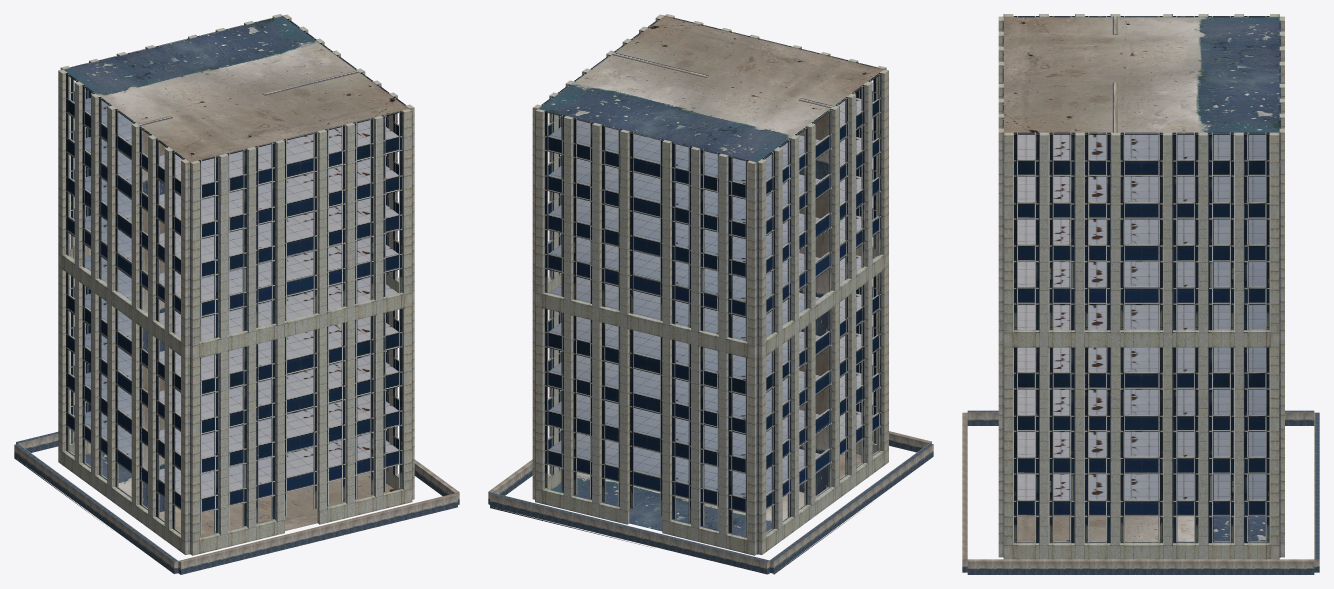
File: BagSS02mid_500.fbx
3 views of the same model, side by side, from view 1: azimuth 30°, elevation 25°; view 2: azimuth 150°, elevation 25°; view 3: azimuth 270°, elevation 25° (orthographic). The views are drawn at different scales.
Parts seen in each view (by area): view 1: midMain500, midRoofaa500, midFloor500, midrail500, midWall500; view 2: midMain500, midRoofaa500, midFloor500, midrail500, midWall500; view 3: midMain500, midRoofaa500, midFloor500, midrail500.
Boxes of the visible parts, box(x1,y1,x2,y2) form: midMain500: box(58, 14, 414, 555); midRoofaa500: box(64, 16, 408, 554); midFloor500: box(74, 98, 398, 497); midrail500: box(14, 432, 459, 574); midWall500: box(137, 70, 359, 512); midMain500: box(532, 14, 888, 555); midRoofaa500: box(538, 16, 883, 554); midFloor500: box(548, 98, 873, 497); midrail500: box(488, 431, 933, 574); midWall500: box(612, 52, 834, 495); midMain500: box(998, 14, 1284, 559); midRoofaa500: box(1003, 17, 1280, 557); midFloor500: box(1018, 134, 1265, 499); midrail500: box(962, 410, 1319, 574).
Bounding box in the file's own units: 48.2 × 63.4 × 48.2.
